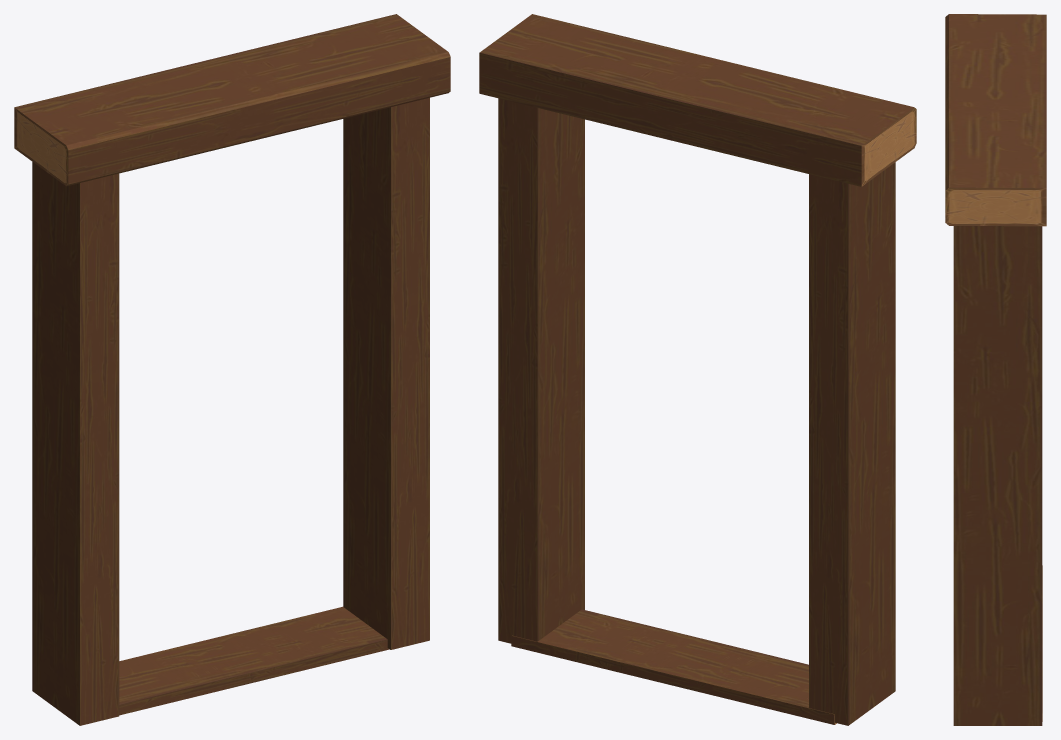
The model's file is DoorFrame_Flat_WoodDark.gltf.
3 views of the same model, side by side, from view 1: azimuth 30°, elevation 25°; view 2: azimuth 150°, elevation 25°; view 3: azimuth 270°, elevation 25° (orthographic). The views are drawn at different scales.
Visible parts, largest first — view 1: DoorFrame_Flat_WoodDark; view 2: DoorFrame_Flat_WoodDark; view 3: DoorFrame_Flat_WoodDark.
Part boxes in pixels (x1,y1,x2,y2): DoorFrame_Flat_WoodDark: [14, 14, 450, 725]; DoorFrame_Flat_WoodDark: [479, 14, 916, 725]; DoorFrame_Flat_WoodDark: [945, 14, 1046, 725].
Bounding box in the file's own units: 1.57 × 2.31 × 0.3885.
1 material, 1 textured.
